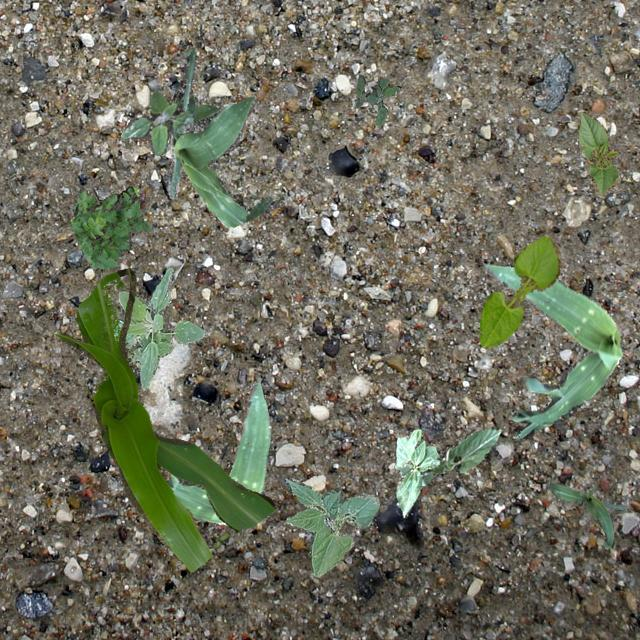crop: (56, 268, 274, 572), (482, 264, 622, 438), (165, 48, 284, 226), (164, 379, 270, 524), (110, 266, 204, 388), (282, 476, 378, 576), (478, 235, 560, 346), (394, 424, 499, 484), (548, 480, 626, 548), (394, 428, 438, 516), (576, 110, 616, 194)
weed: (70, 185, 150, 268), (120, 89, 192, 154), (353, 74, 398, 124)
